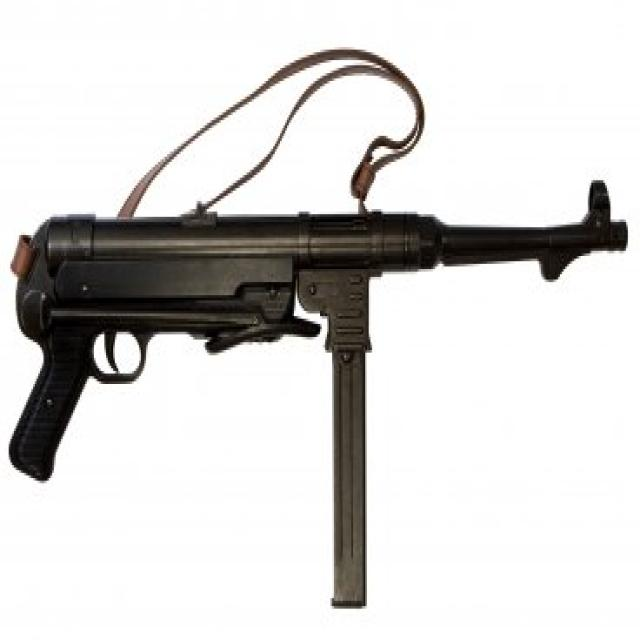SMG: (9, 180, 630, 609)
